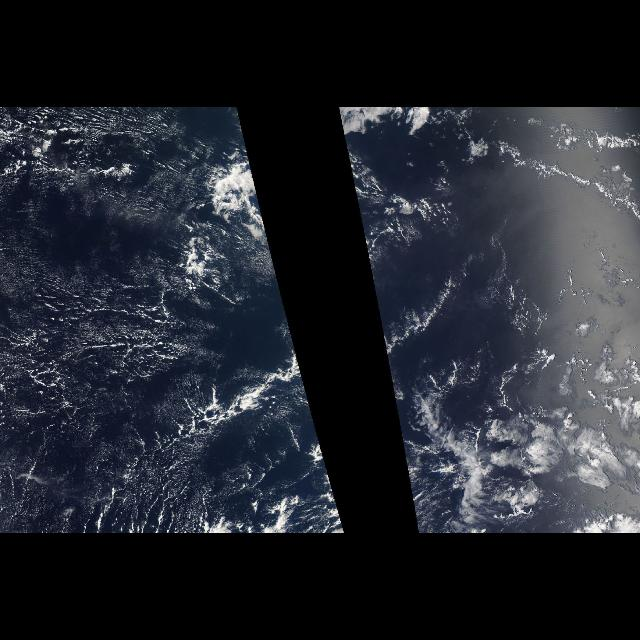Sugar: (8, 172, 180, 414)
